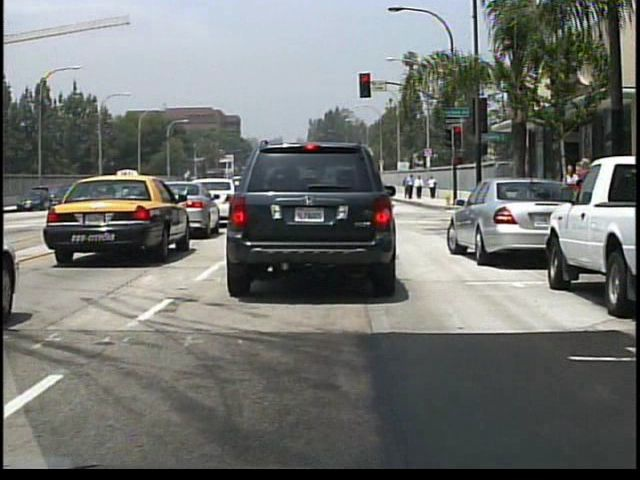person: (571, 154, 602, 263), (559, 164, 583, 226), (428, 175, 439, 201), (405, 174, 415, 200), (415, 175, 424, 201), (404, 175, 412, 200)
